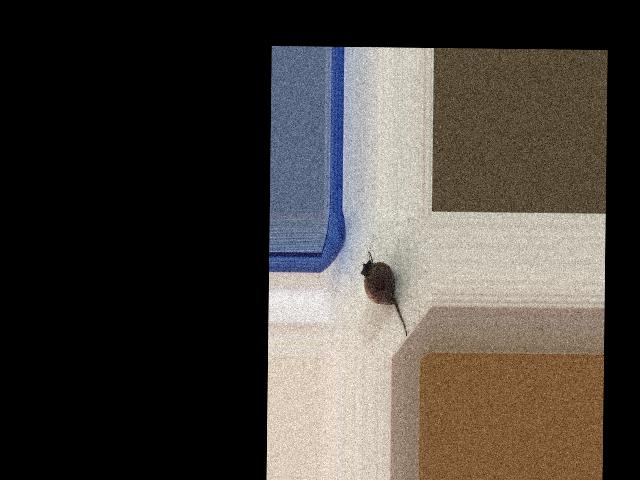beet: (360, 252, 408, 336)
